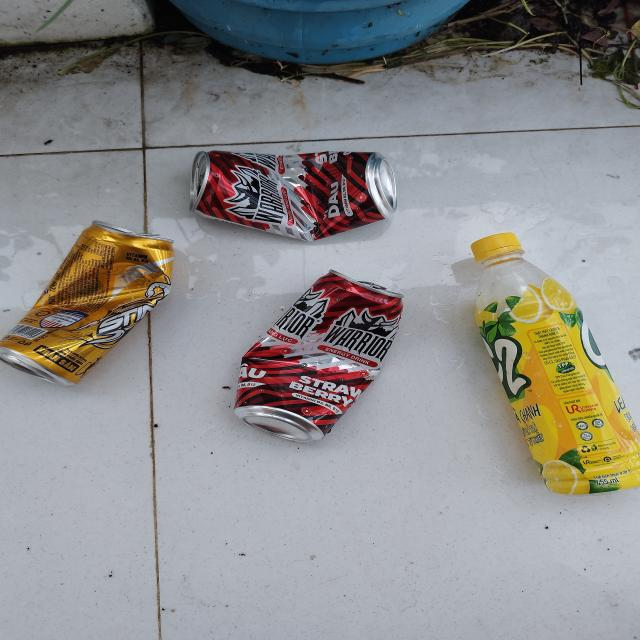bottle: (470, 233, 640, 497)
can: (234, 269, 406, 442), (0, 220, 176, 386), (190, 150, 398, 243)
